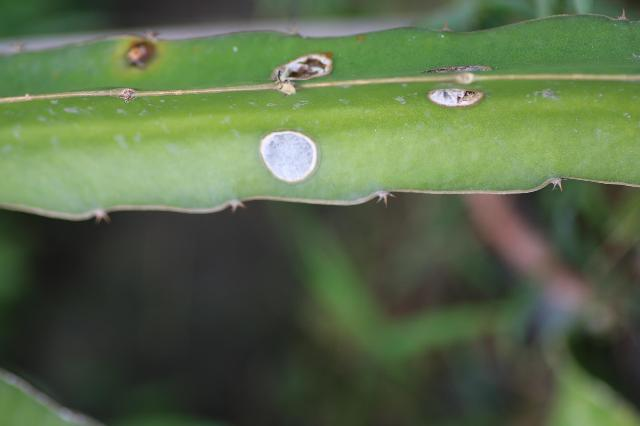stemcanker: (270, 46, 342, 100), (419, 62, 491, 112), (259, 129, 323, 185), (119, 33, 163, 78)
